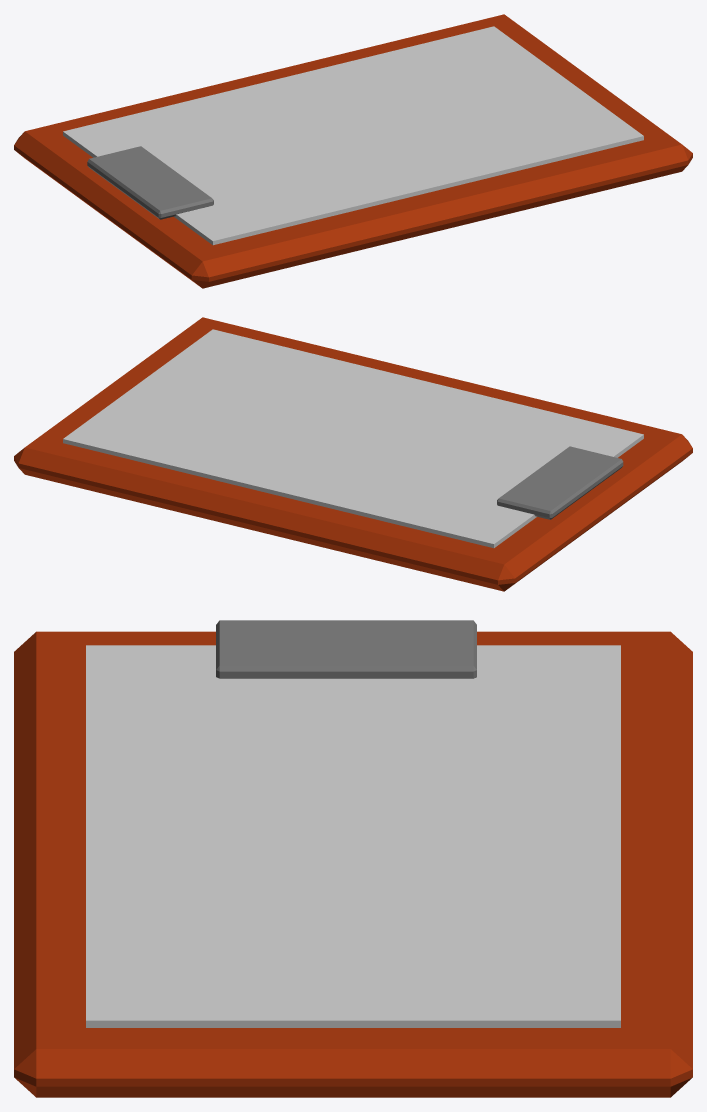
Rendered from clipboard.glb.
The picture shows the model from 3 angles, top to bottom: view 1: azimuth 30°, elevation 25°; view 2: azimuth 150°, elevation 25°; view 3: azimuth 270°, elevation 25°; orthographic projection. The views are drawn at different scales.
Visible parts, largest first — view 1: Clipboard; view 2: Clipboard; view 3: Clipboard.
Boxes of the visible parts, left/top/right/bottom form: Clipboard: left=14, top=14, right=692, bottom=288; Clipboard: left=14, top=317, right=692, bottom=591; Clipboard: left=14, top=620, right=692, bottom=1097.
Bounding box in the file's own units: 0.3 × 0.0217 × 0.1973.
